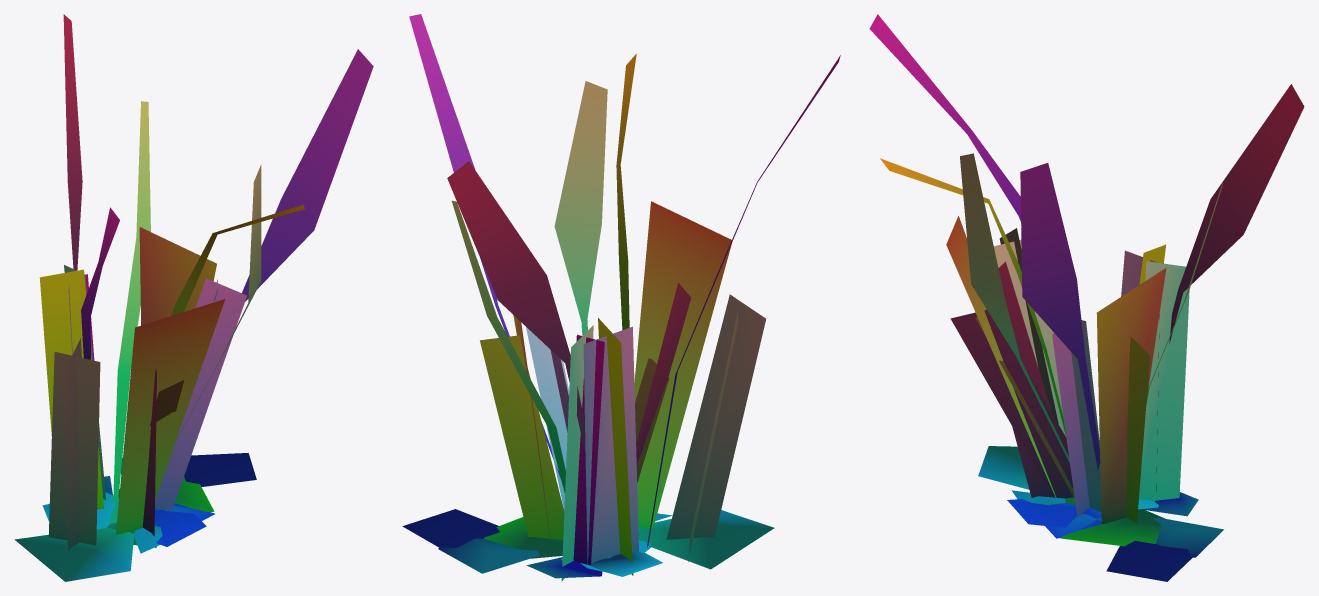
The model's file is uddmcgbia_VarI_LOD2.fbx.
3 views of the same model, side by side, from view 1: azimuth 30°, elevation 25°; view 2: azimuth 150°, elevation 25°; view 3: azimuth 270°, elevation 25° (orthographic). The views are drawn at different scales.
Visible parts, largest first — view 1: _c98e_VarI_LOD3; view 2: _c98e_VarI_LOD3; view 3: _c98e_VarI_LOD3.
Part boxes in pixels (left/top/right/bottom): _c98e_VarI_LOD3: left=14, top=14, right=373, bottom=581; _c98e_VarI_LOD3: left=402, top=14, right=840, bottom=581; _c98e_VarI_LOD3: left=869, top=14, right=1304, bottom=581.
Bounding box in the file's own units: 24.35 × 31.36 × 26.86.
